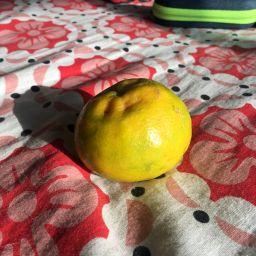Ripe: (77, 80, 192, 180)
